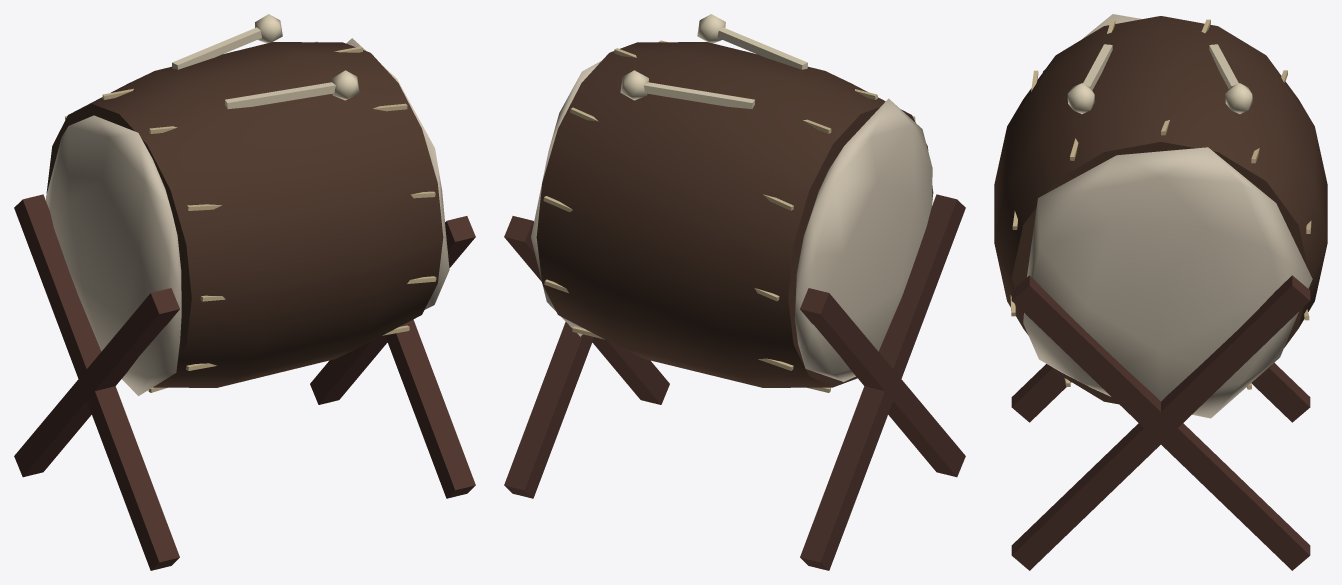
File: war_drum.glb
3 views of the same model, side by side, from view 1: azimuth 30°, elevation 25°; view 2: azimuth 150°, elevation 25°; view 3: azimuth 270°, elevation 25° (orthographic). The views are drawn at different scales.
Parts seen in each view (by area): view 1: leg_a-1; view 2: leg_a-1; view 3: leg_a-1.
Boxes of the visible parts, <box> form: leg_a-1: <box>14,14,475,570</box>; leg_a-1: <box>504,14,965,570</box>; leg_a-1: <box>994,14,1327,570</box>.
Size of the model in its own units: 2.14 by 2.77 by 1.9.
